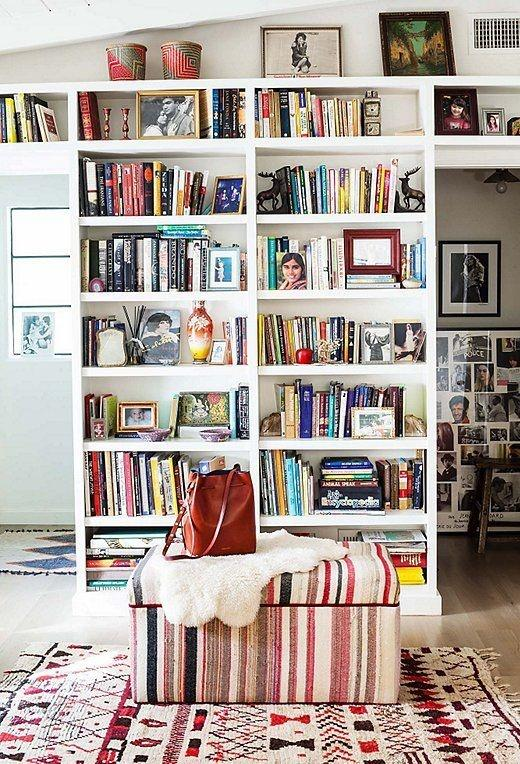Rak: (70, 76, 434, 611)
